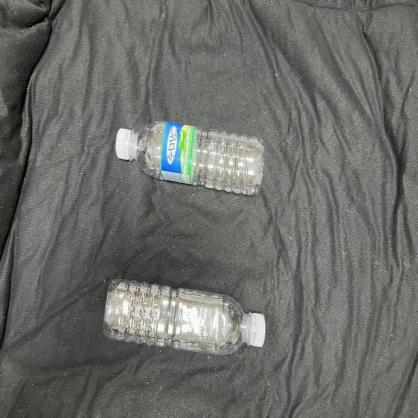bottle: (102, 279, 270, 358), (115, 120, 266, 194)
cap: (247, 313, 266, 347), (117, 128, 136, 160)
label: (159, 122, 194, 186)
